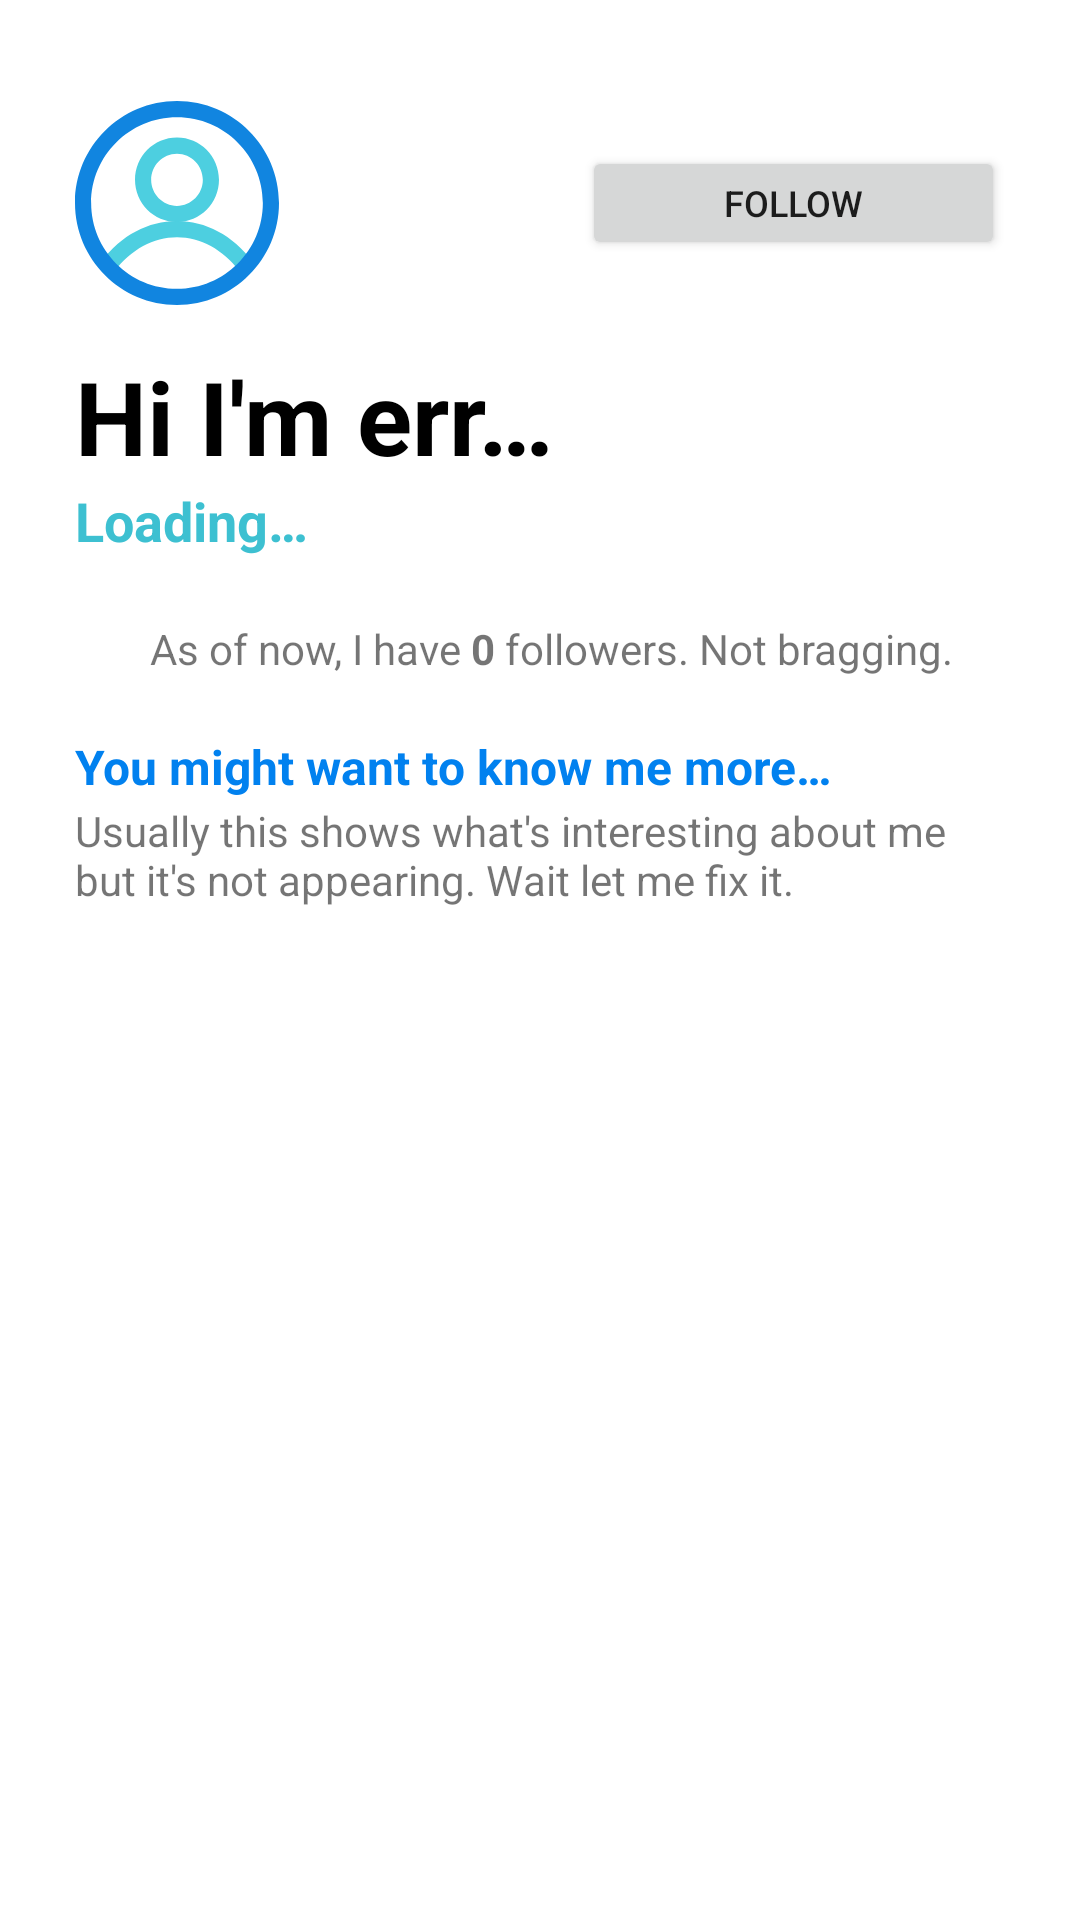

Where icons sit on this 1080 × 1920 app screen, as (x1, y1, x2, y2):
the PFP of the user: (75, 101, 279, 305)
